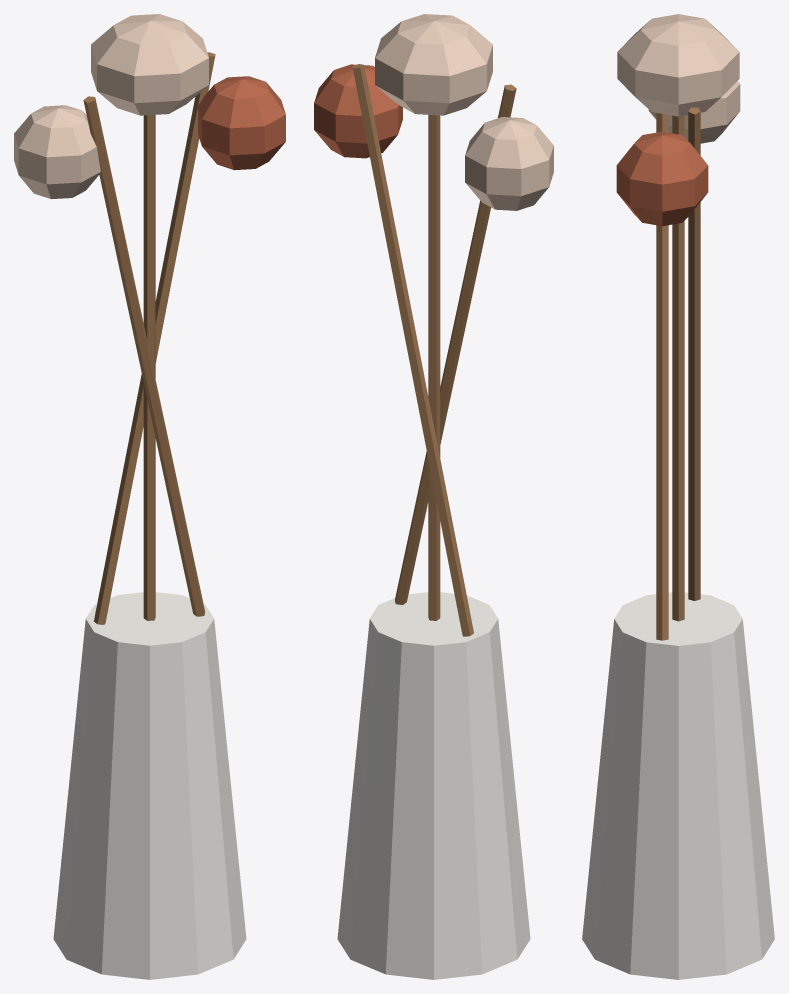
File: vaso_decor.obj
3 renders of one model, left to right at view 1: azimuth 30°, elevation 25°; view 2: azimuth 150°, elevation 25°; view 3: azimuth 270°, elevation 25°, orthographic.
Visible parts, largest first — view 1: vaso_decor; view 2: vaso_decor; view 3: vaso_decor.
Boxes of the visible parts, x1,y1,x2,y2 form: vaso_decor: [14, 14, 285, 979]; vaso_decor: [314, 14, 553, 979]; vaso_decor: [582, 14, 774, 979].
Size of the model in its own units: 17.7 by 63 by 12.
